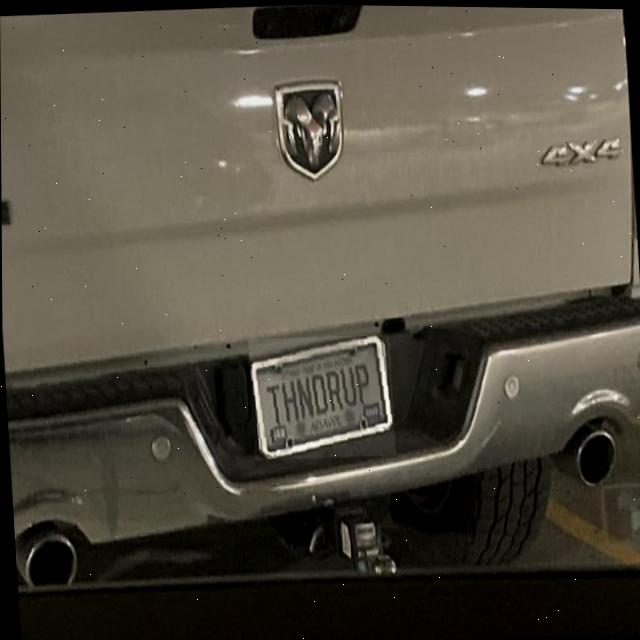LicensePlate: (249, 334, 394, 459)
